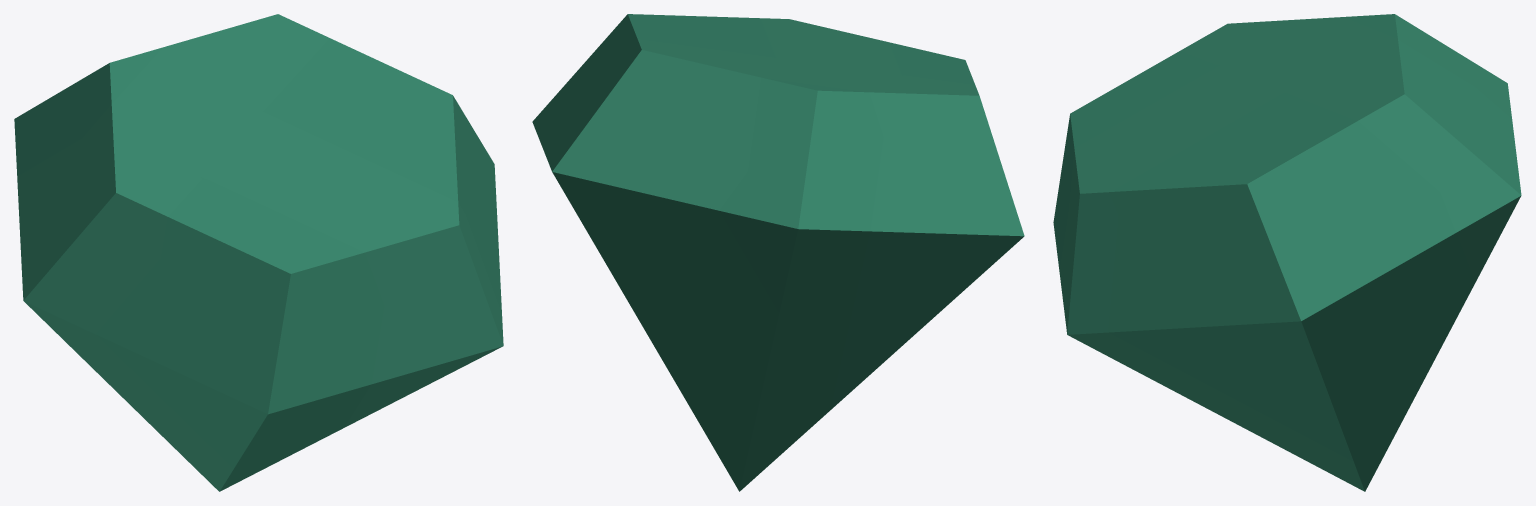
The model's file is diamond.obj.
3 views of the same model, side by side, from view 1: azimuth 30°, elevation 25°; view 2: azimuth 150°, elevation 25°; view 3: azimuth 270°, elevation 25° (orthographic).
Parts seen in each view (by area): view 1: Circle_Techo_0, Circle_GrisFuerte_0, Circle_GrisClaro_0; view 2: Circle_GrisFuerte_0, Circle_GrisClaro_0, Circle_Techo_0; view 3: Circle_GrisClaro_0, Circle_GrisFuerte_0, Circle_Techo_0.
Boxes of the visible parts, box(x1,y1,x2,y2) form: Circle_Techo_0: box(109, 14, 459, 273); Circle_GrisFuerte_0: box(14, 63, 503, 491); Circle_GrisClaro_0: box(23, 96, 503, 491); Circle_GrisFuerte_0: box(532, 14, 1024, 491); Circle_GrisClaro_0: box(552, 50, 1023, 491); Circle_Techo_0: box(628, 14, 979, 95); Circle_GrisClaro_0: box(1067, 14, 1521, 491); Circle_GrisFuerte_0: box(1053, 94, 1520, 491); Circle_Techo_0: box(1070, 14, 1404, 193).
Bounding box in the file's own units: 108 × 94.57 × 92.12.
Materials: 3 (3 with a texture image).
